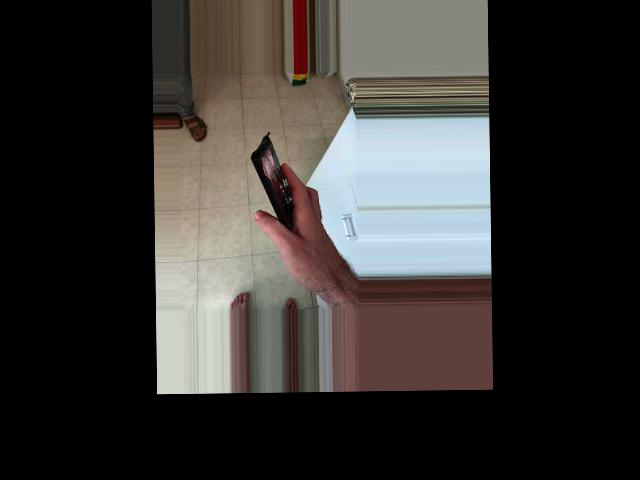chocolate: (249, 130, 307, 242)
